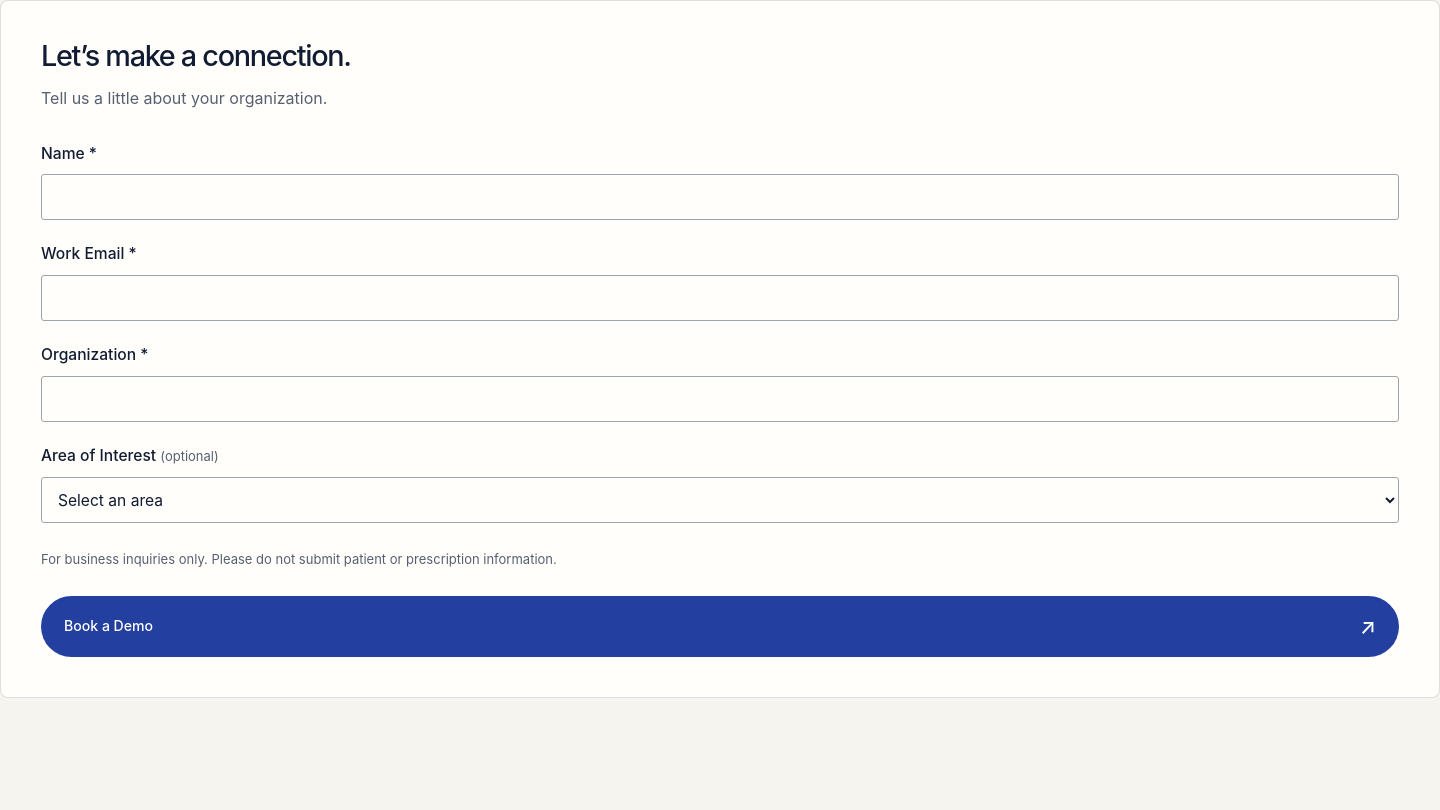
business inquiry form › reports network failure without claiming a successful submission
The width and height of the screenshot is (1440, 810).
Type "Demo User" into the field labelled "Name *" at (720, 198), box x1=41 y1=174 x2=1399 y2=220
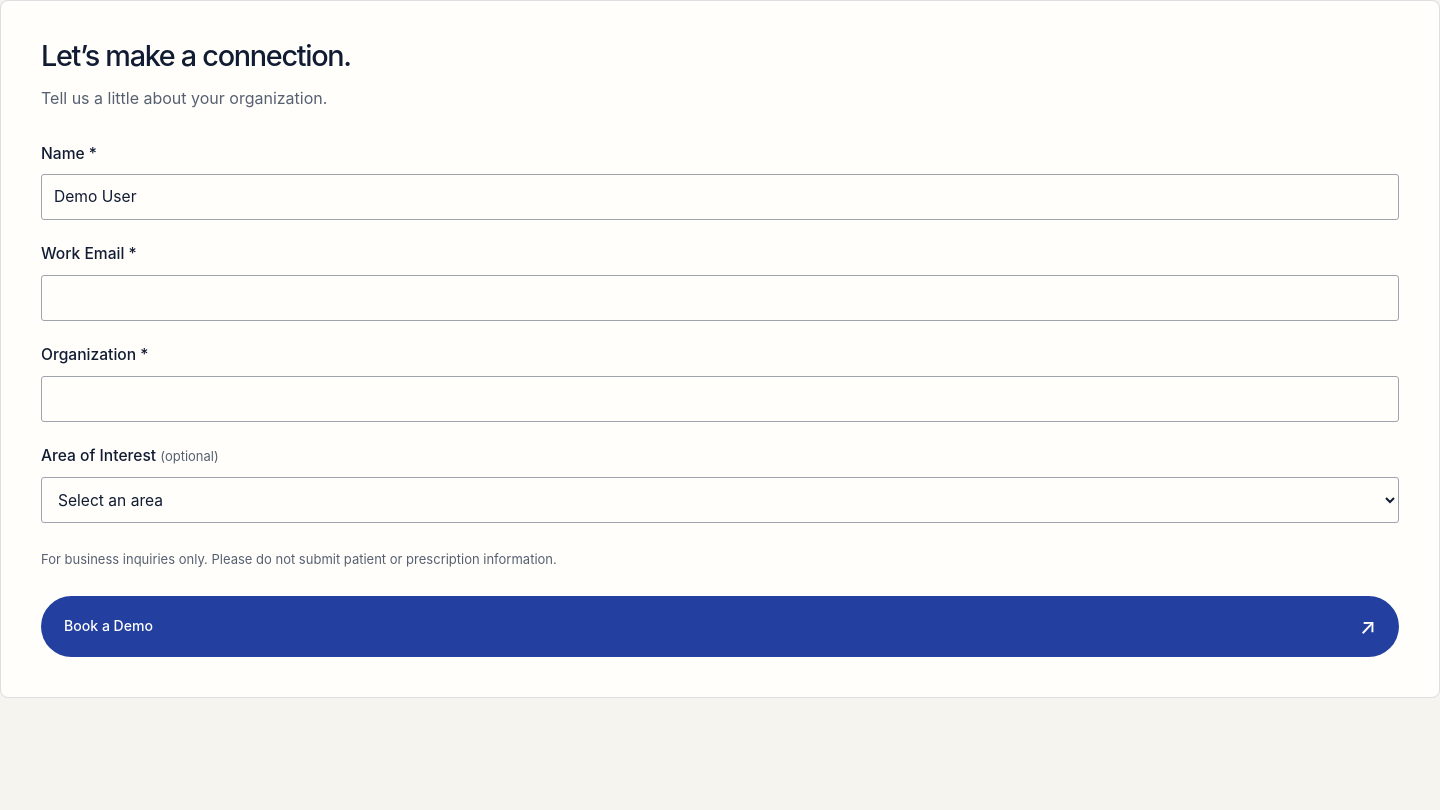
Type "demo@example.com" into the field labelled "Work Email *" at (720, 298), box x1=41 y1=275 x2=1399 y2=321
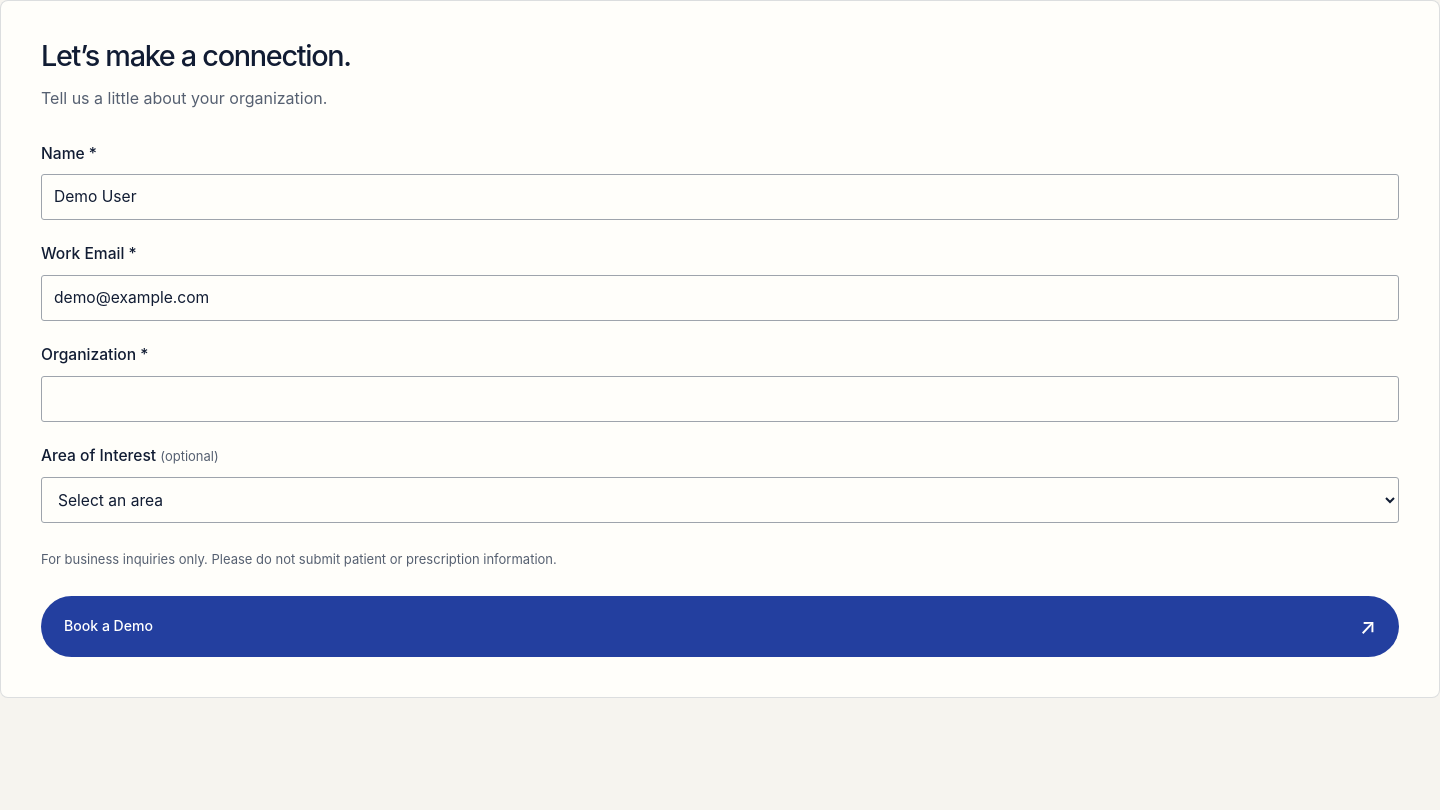
Type "Example Pharmacy" into the field labelled "Organization *" at (720, 399), box x1=41 y1=376 x2=1399 y2=422
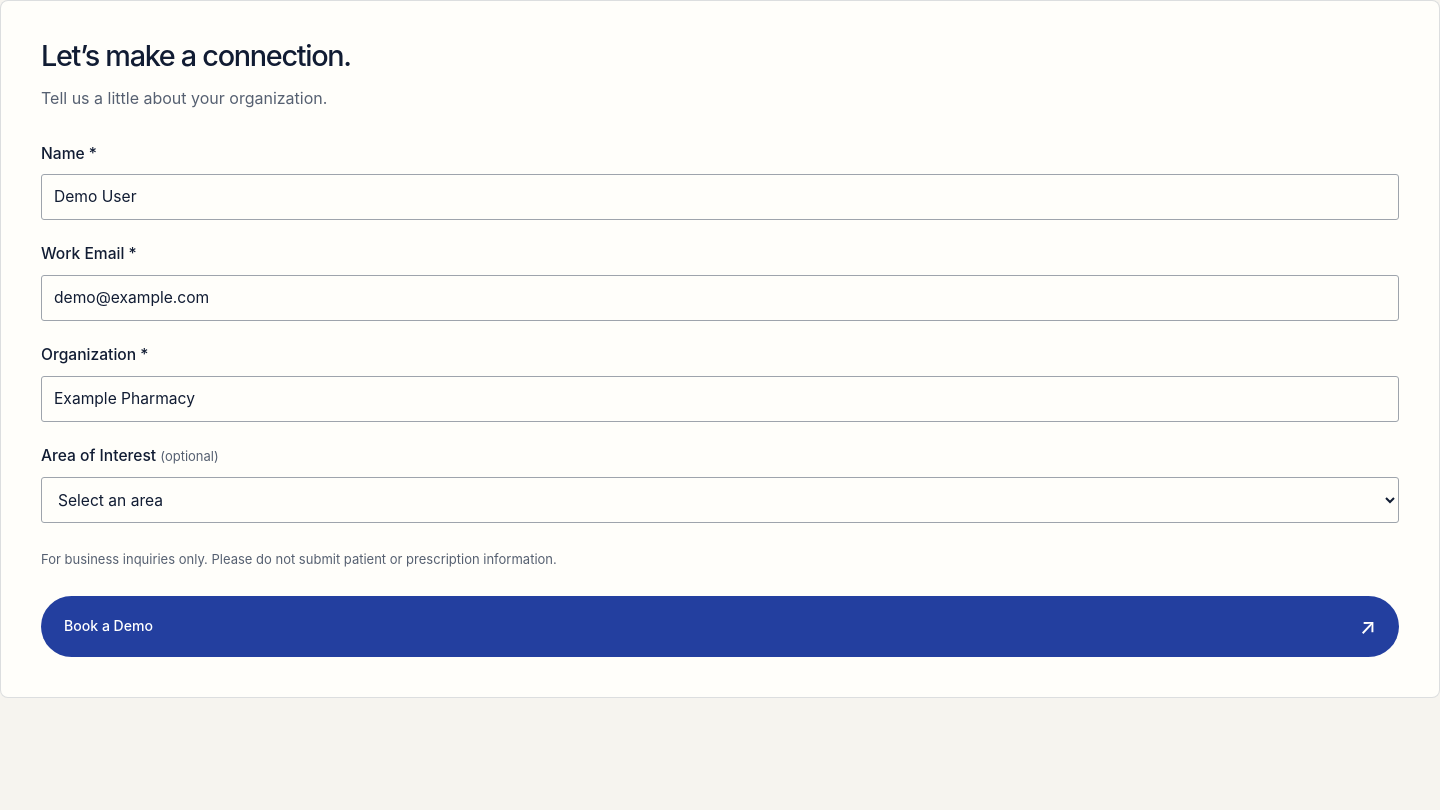
Click the button "Book a Demo ↗" at (109, 626), box x1=41 y1=596 x2=1399 y2=657
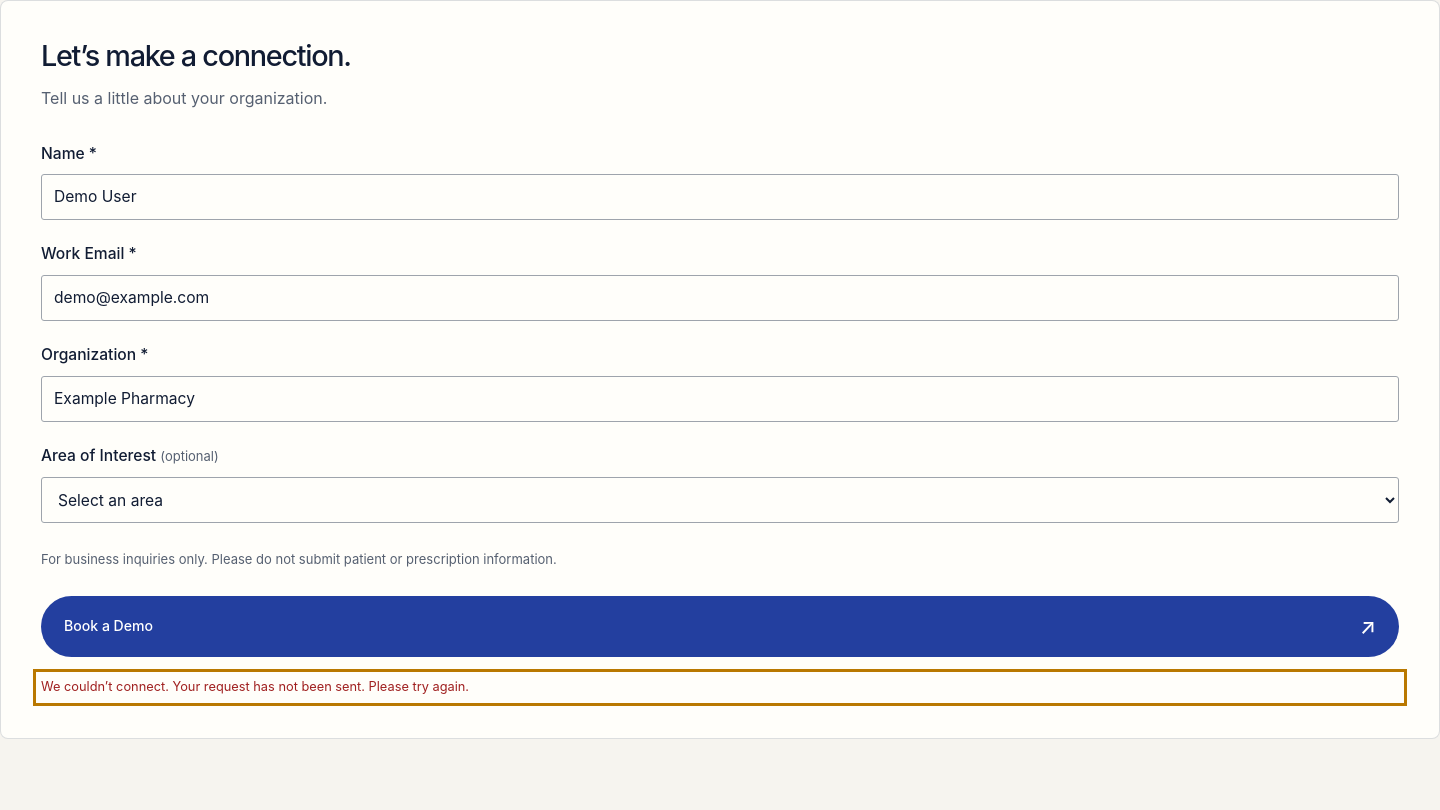
Expected: the message shows "Your request has not been sent", x1=41 y1=679 x2=469 y2=694
